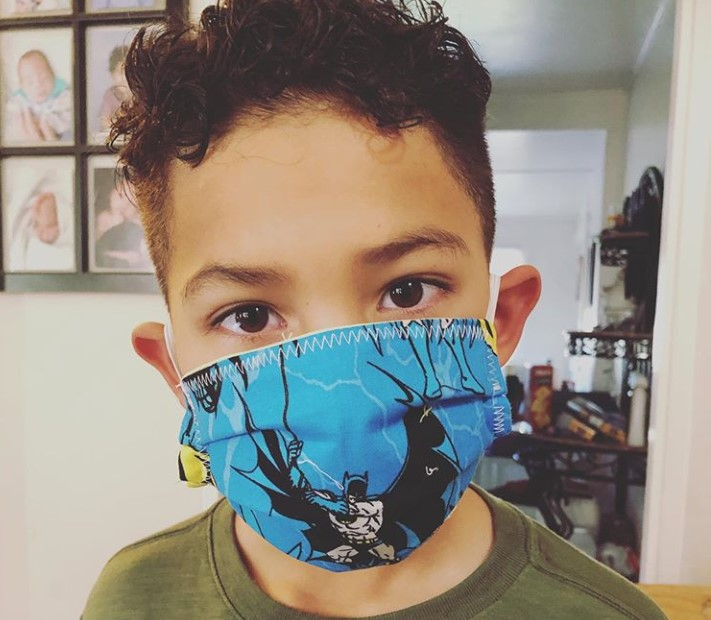face_with_mask: (130, 34, 541, 572)
